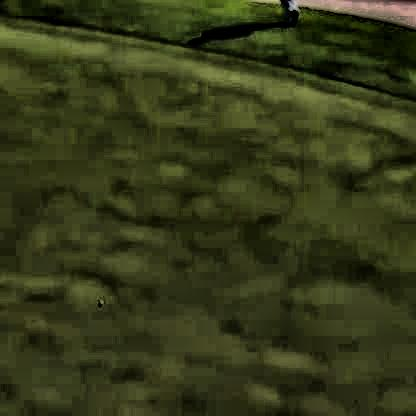golfball: (95, 296, 102, 303)
